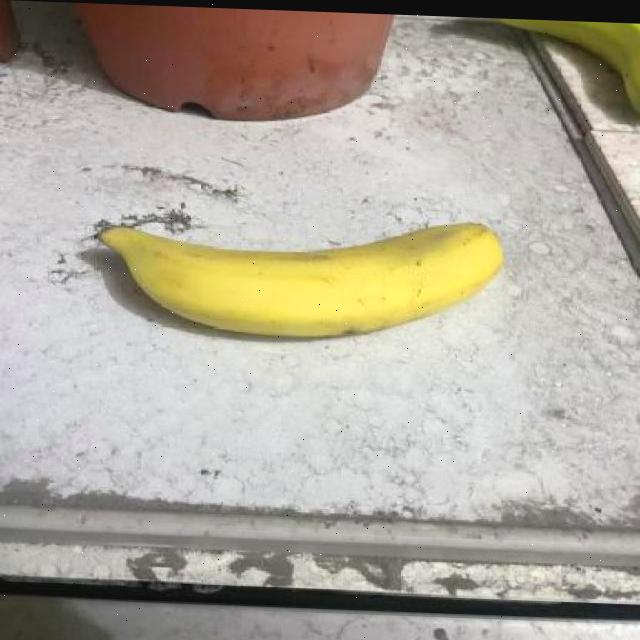banana: (88, 209, 504, 350)
